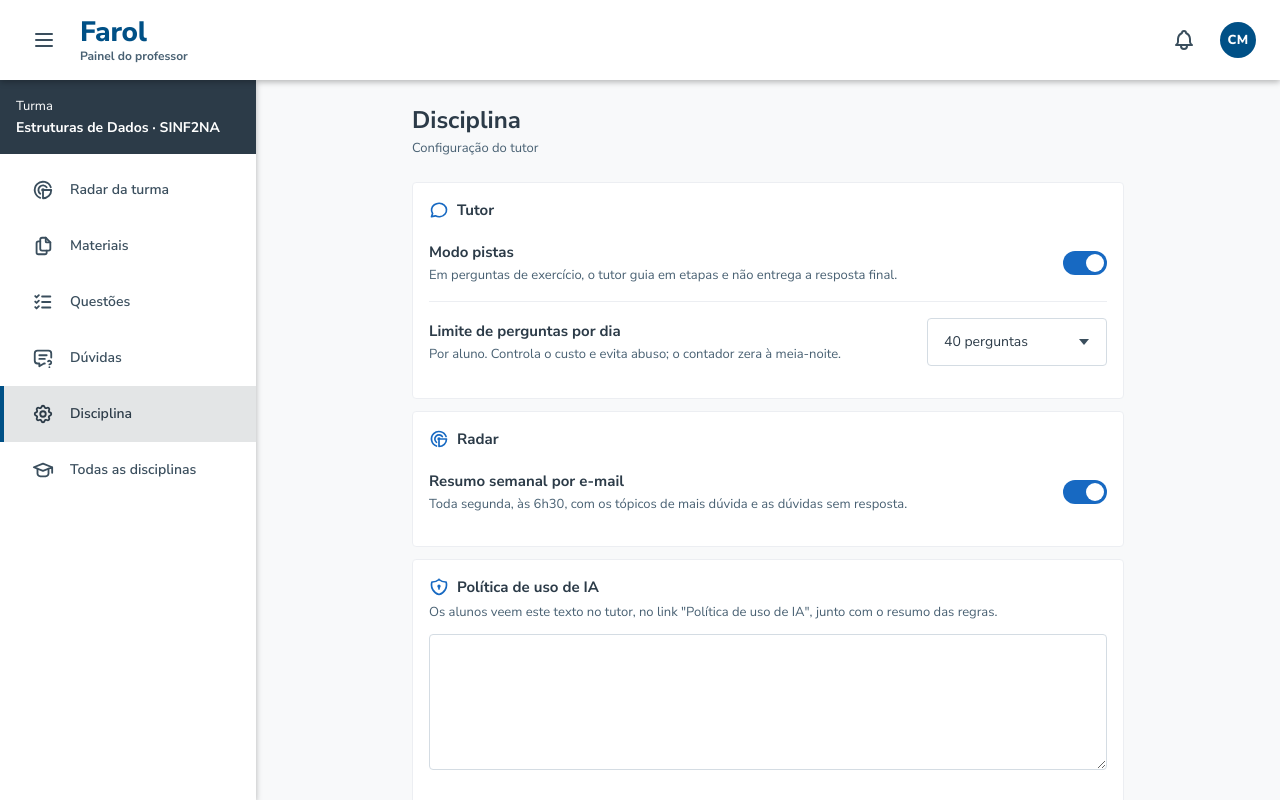
Test: configuração do tutor pelo professor (TUT-T43) › o professor desliga o modo pistas, muda o limite e escreve a política
Click the checkbox labelled "Modo pistas". click: (1085, 263)
box: [1063,251,1107,275]
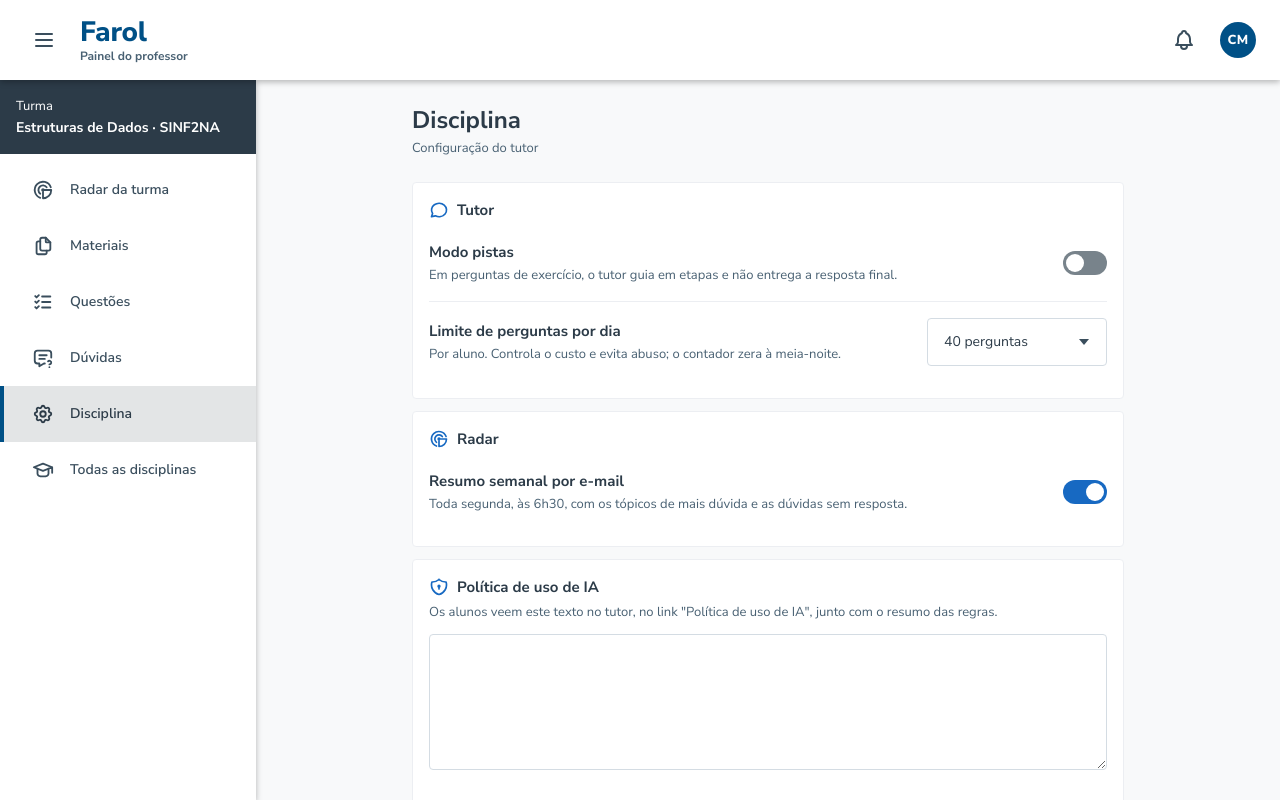
Select "60 perguntas" in the dropdown labelled "Limite de perguntas por dia". click: (1017, 342)
box: [927,318,1107,366]
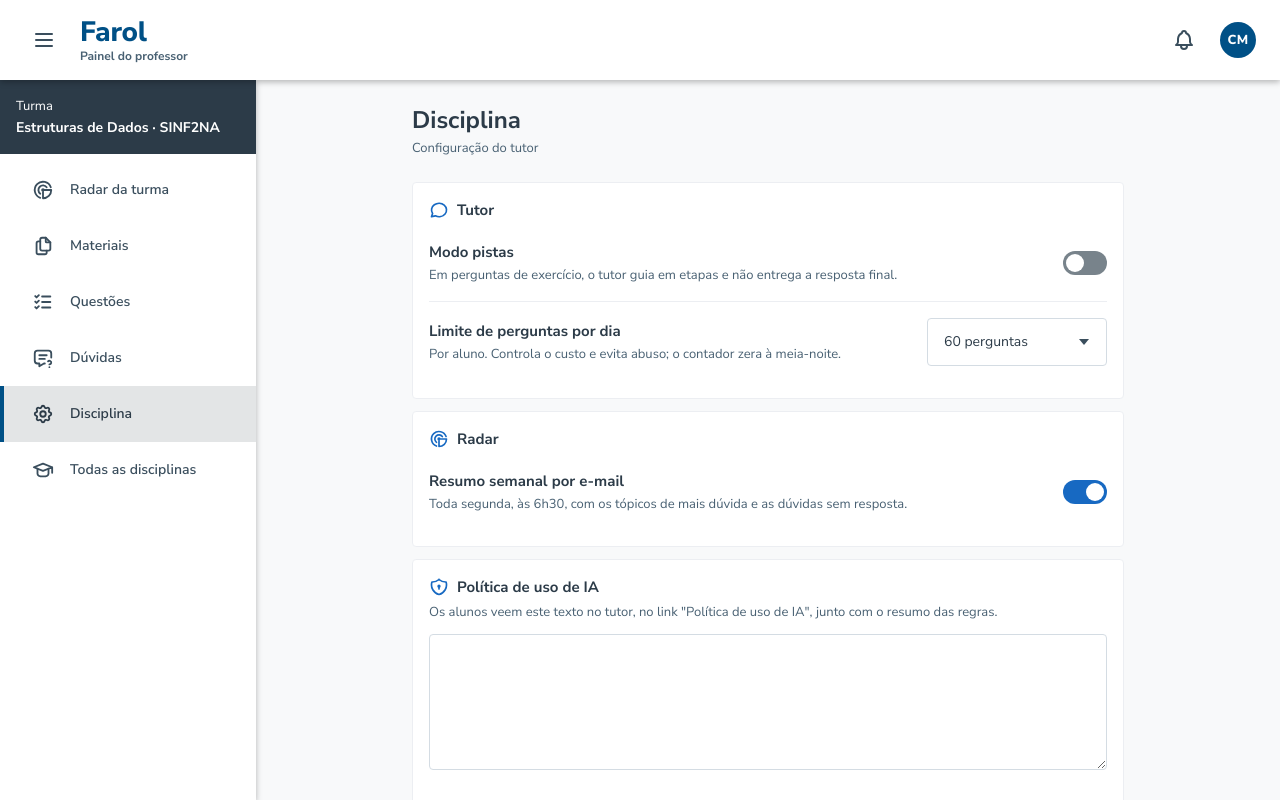
Type "Use o tutor para estudar, não para copiar." into the text box named "Política de uso de IA". click: (768, 702)
box: [429,634,1107,770]
(page scrolled)
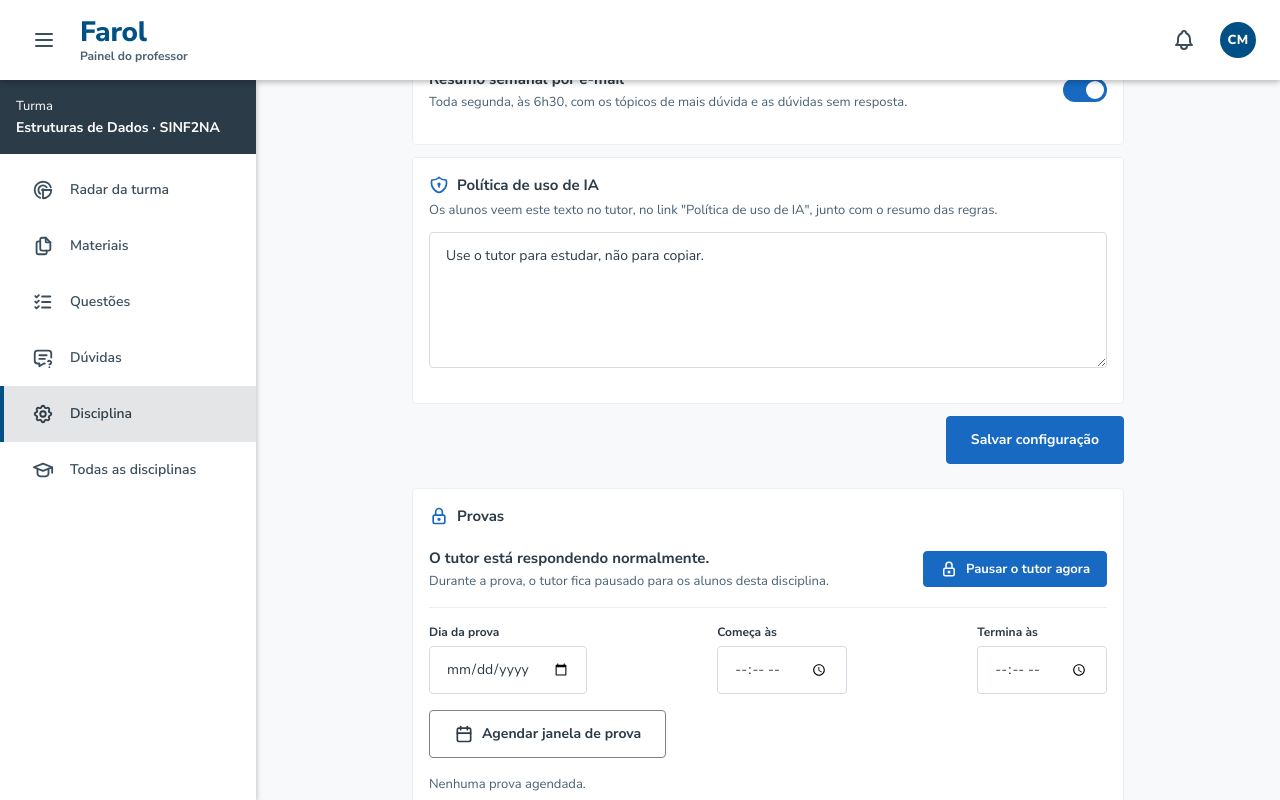
Click the button "Salvar configuração". click: (1035, 440)
box: [946,416,1124,464]
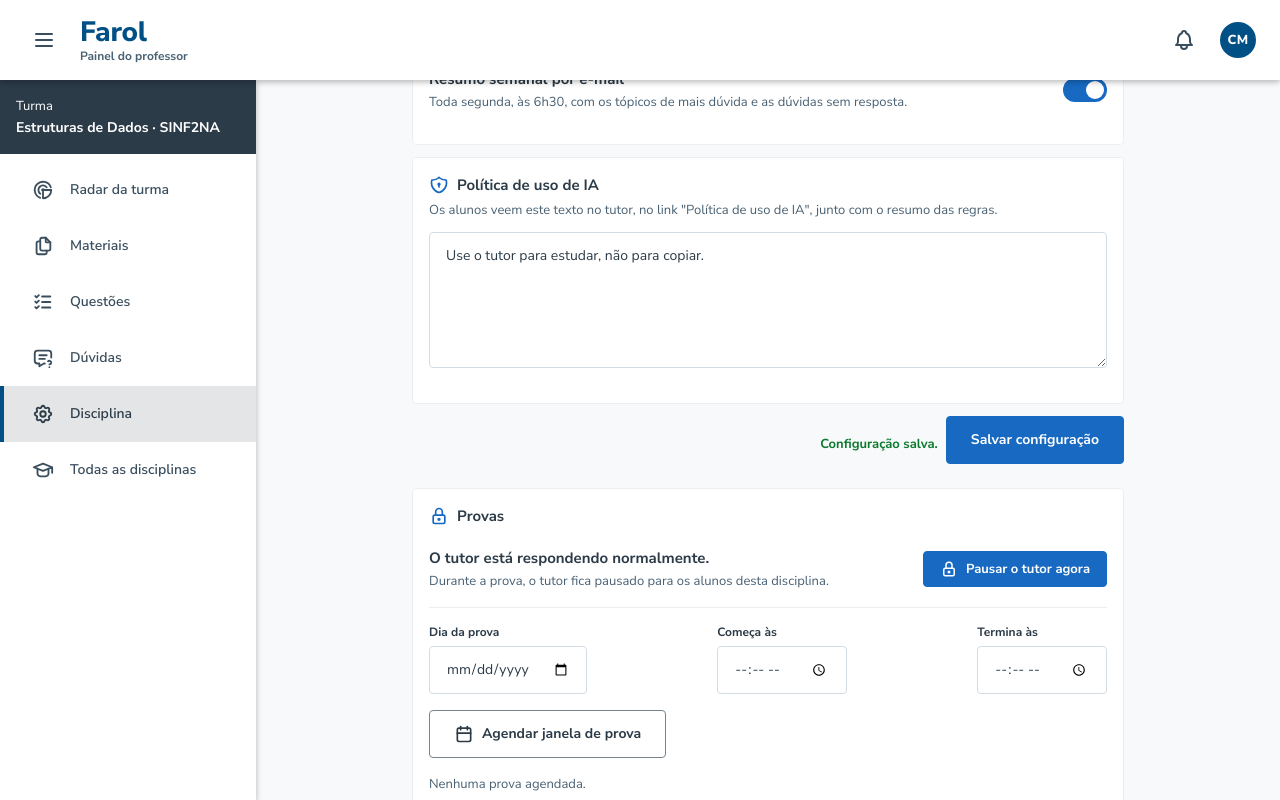
Check: the text "Configuração salva." is shown, box [820,433,938,455]
